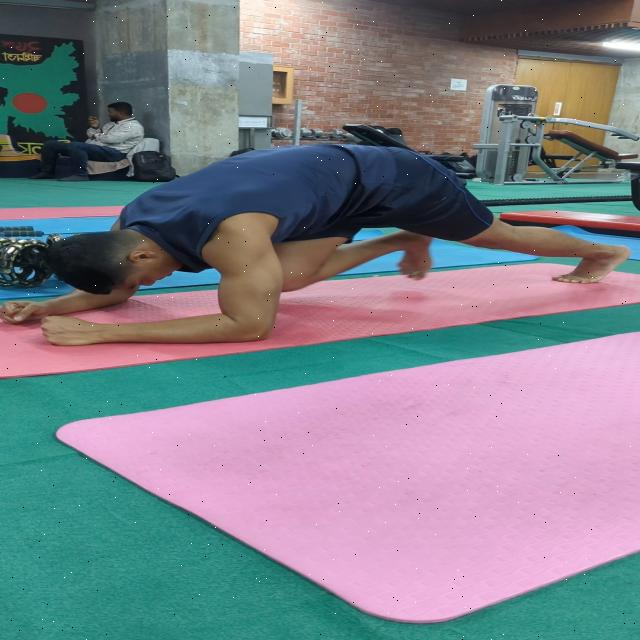Normal_MountainClimbers: (0, 119, 622, 362)
